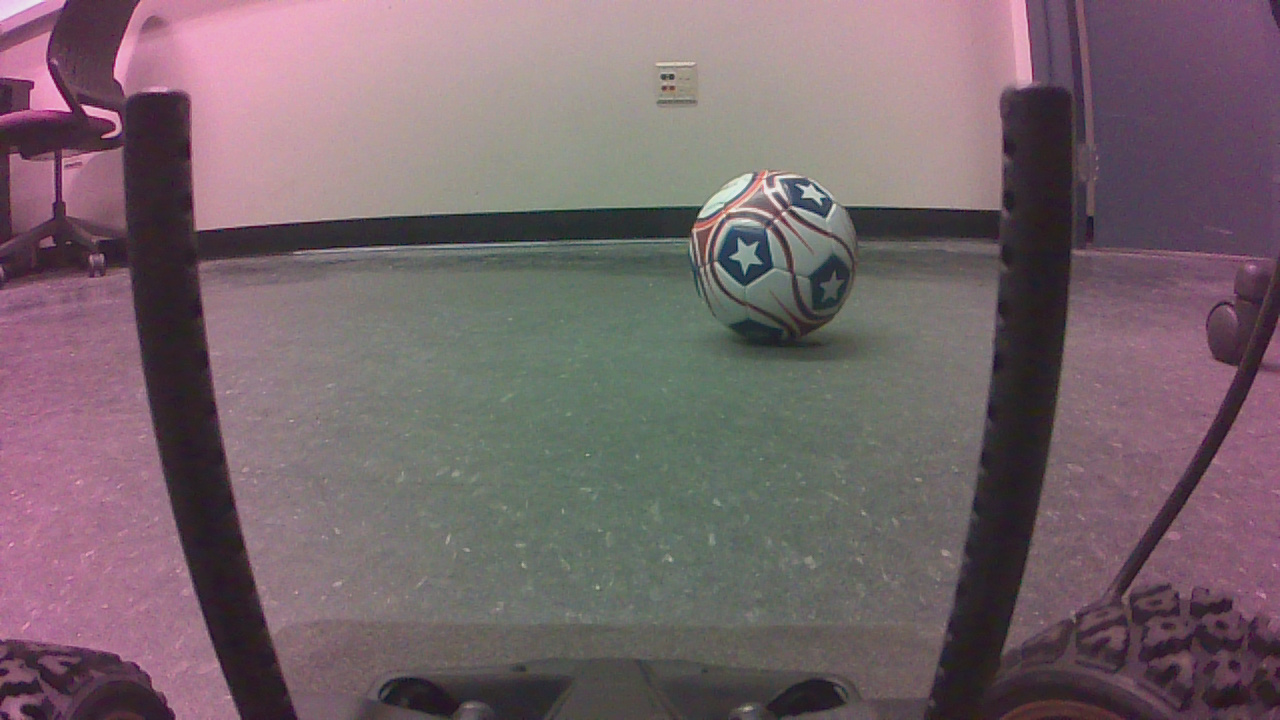ball: (694, 141, 703, 160)
